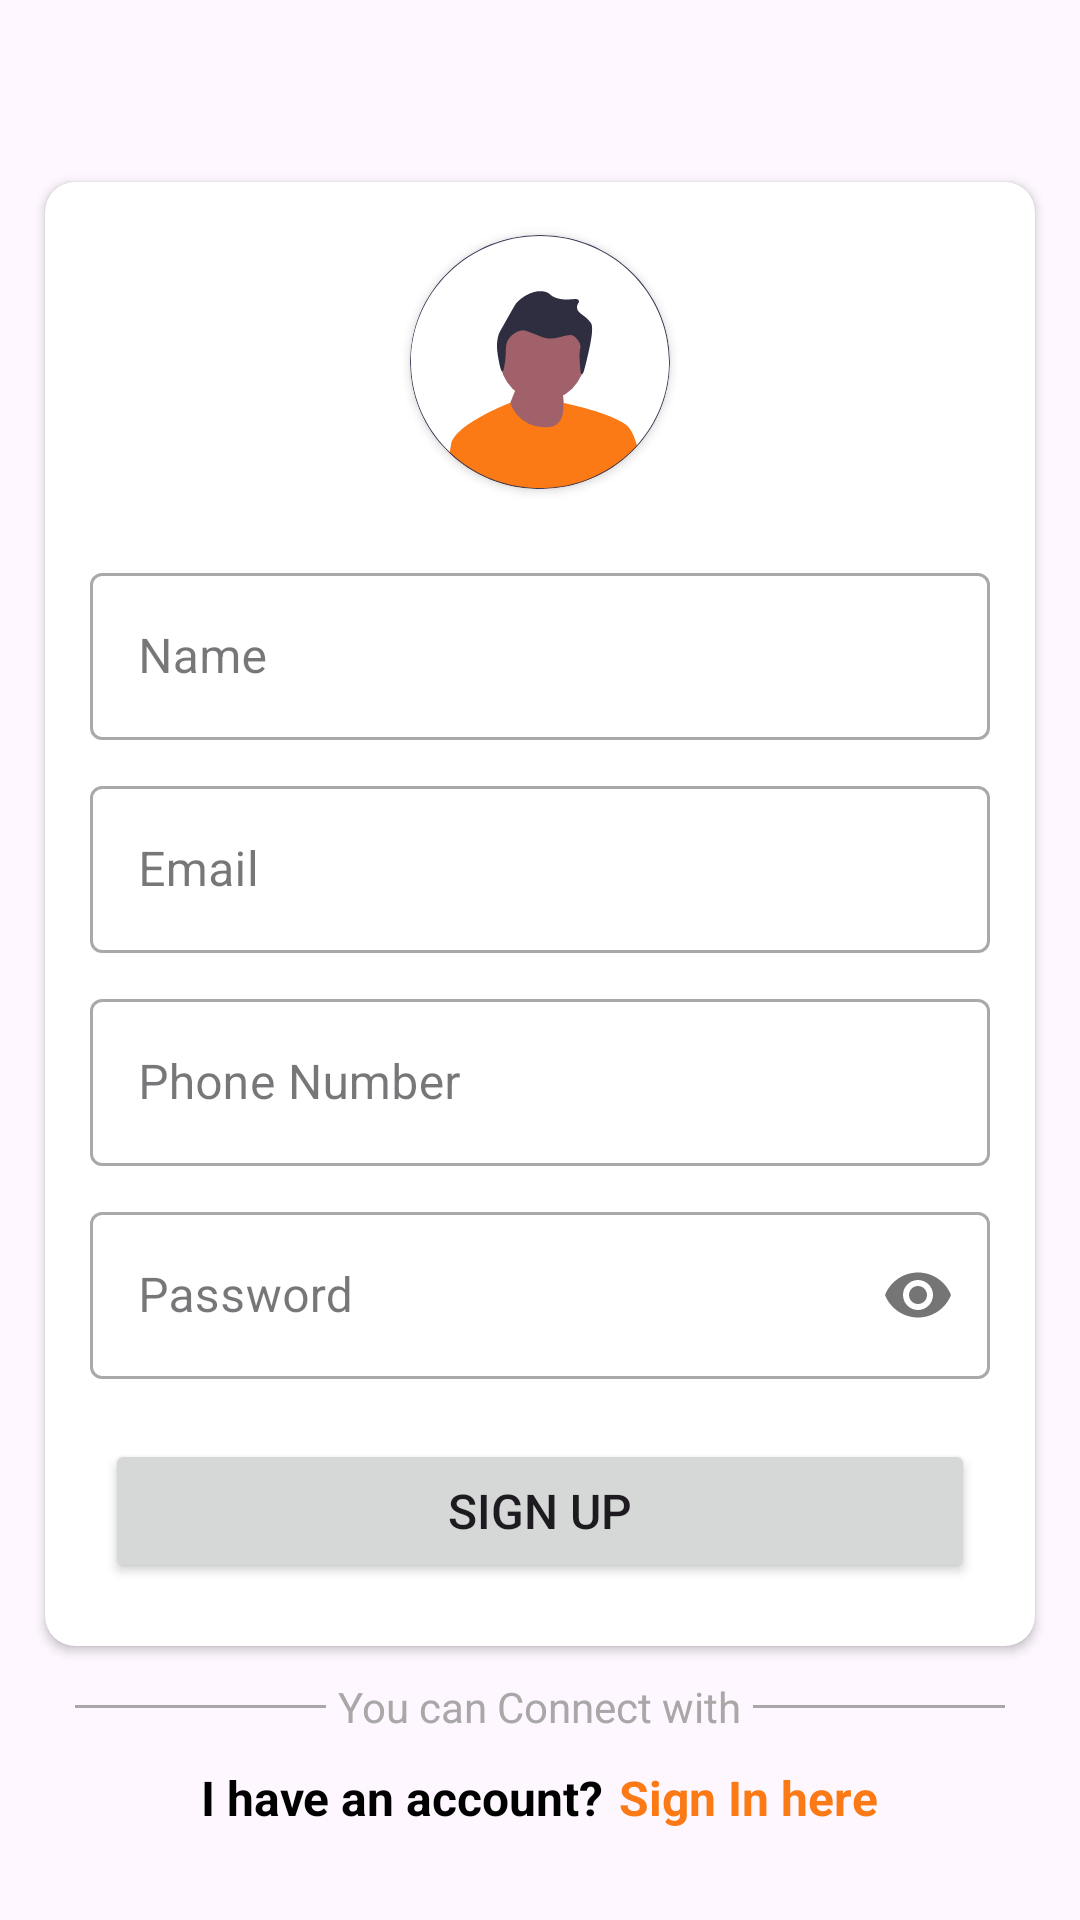

Point at icon controls on the screen. Image size 1080px×1920px, points as point (x, y).
user: point (540, 362)
